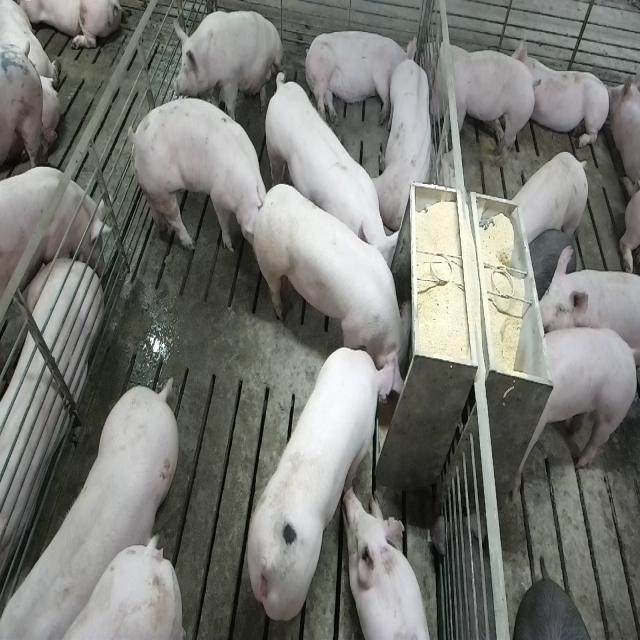Feeding: (244, 342, 401, 623), (256, 174, 419, 384)
Lateral_lying: (0, 253, 101, 612), (303, 28, 417, 128)
Sitting: (173, 8, 284, 127)
Standing: (5, 374, 184, 637), (262, 69, 398, 284), (122, 93, 264, 262), (519, 323, 638, 477), (421, 36, 539, 172), (0, 165, 107, 300), (530, 248, 636, 368), (507, 151, 590, 248)
Sternal_lying: (345, 488, 433, 640), (518, 34, 612, 154), (375, 55, 437, 231)
